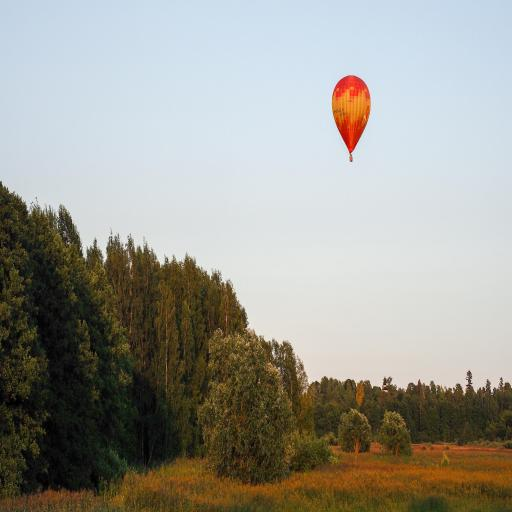hot air ballon: (332, 76, 371, 162)
